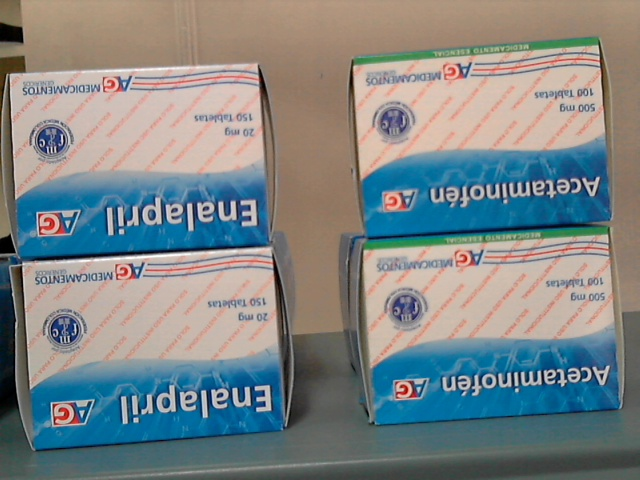AG: (10, 65, 269, 251), (371, 229, 618, 421), (368, 37, 614, 226), (31, 262, 283, 445)
